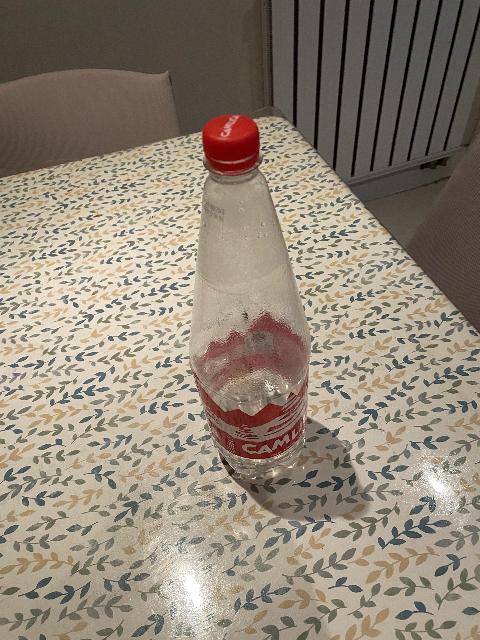Plastik: (190, 116, 313, 479), (198, 116, 263, 168)
